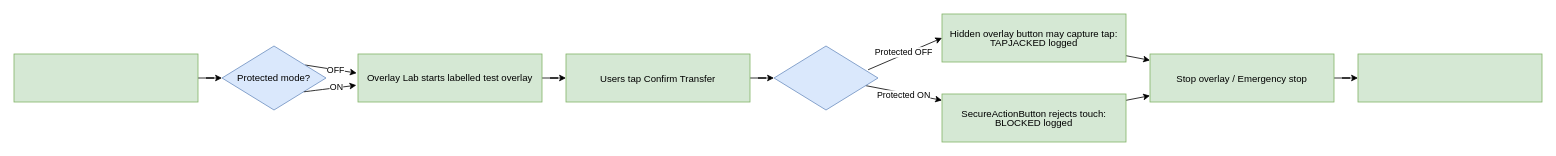
Some shapes in this 1556 by 156 pixel diagram are drawn without their labels. Each missing label, with the centre of its shape:
"Review local CSV result" belongs at point 1449,77.
"Touch obscured?" belongs at point 825,77.
"Victim app: accept authorization notice" belongs at point 105,77.
